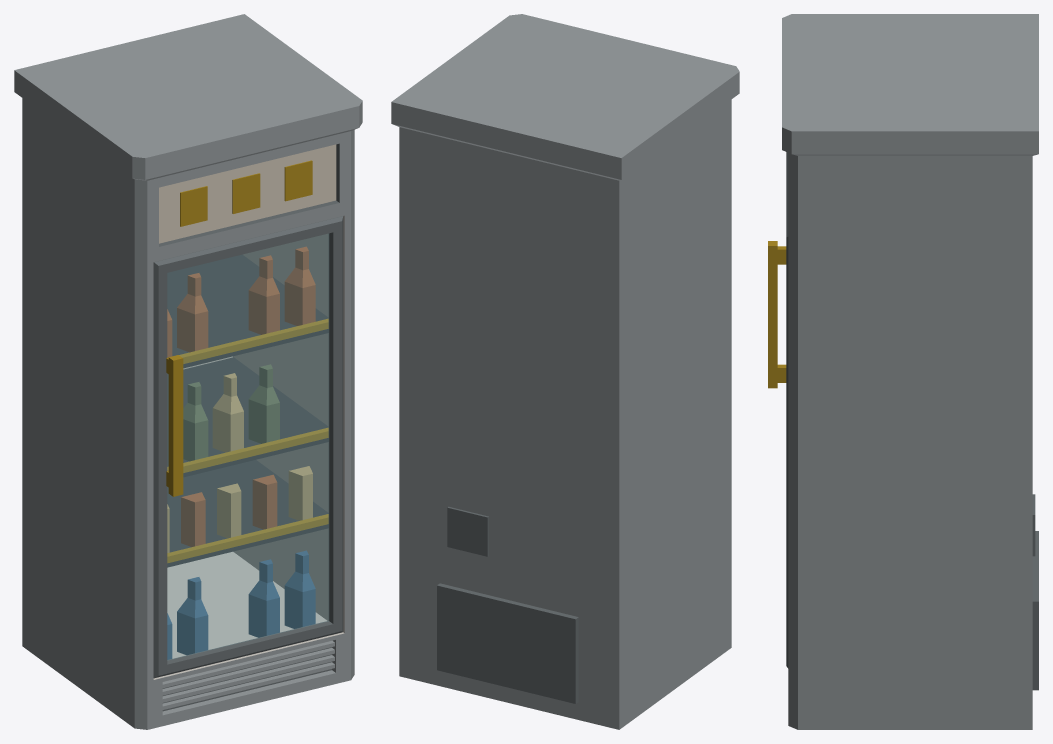
File: glass-door-drinks-fridge-21f077.glb
The picture shows the model from 3 angles, left to right: view 1: azimuth 30°, elevation 25°; view 2: azimuth 150°, elevation 25°; view 3: azimuth 270°, elevation 25°; orthographic projection. The views are drawn at different scales.
Visible parts, largest first — view 1: glass-door-drinks-fridge, door-r-glass, stock, door-r; view 2: glass-door-drinks-fridge; view 3: glass-door-drinks-fridge, door-r.
Boxes of the visible parts, box(x1,y1,x2,y2) form: glass-door-drinks-fridge: box(14, 14, 362, 729); door-r-glass: box(167, 234, 328, 659); stock: box(167, 246, 315, 659); door-r: box(153, 216, 343, 678); glass-door-drinks-fridge: box(391, 14, 739, 729); glass-door-drinks-fridge: box(782, 14, 1038, 729); door-r: box(768, 152, 788, 668).
Size of the model in its own units: 0.796 by 1.9 by 0.776.
